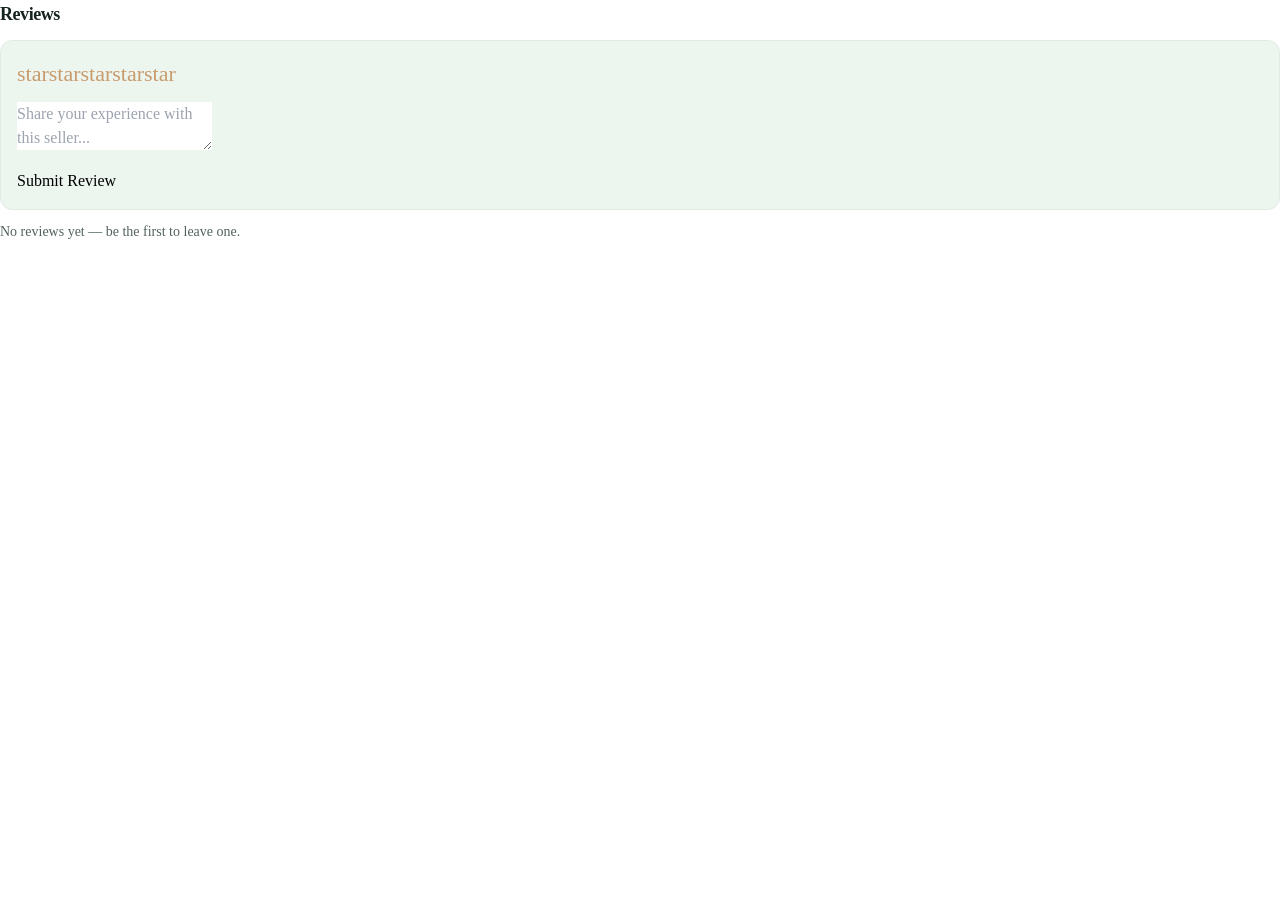
Test case: SellerReviews › shows the review composer inline (no button needed) even signed out, and prompts sign-in on submit
In the text box with placeholder "Share your experience with this seller...": (114, 126) [17,102,212,150], type "Great seller!"
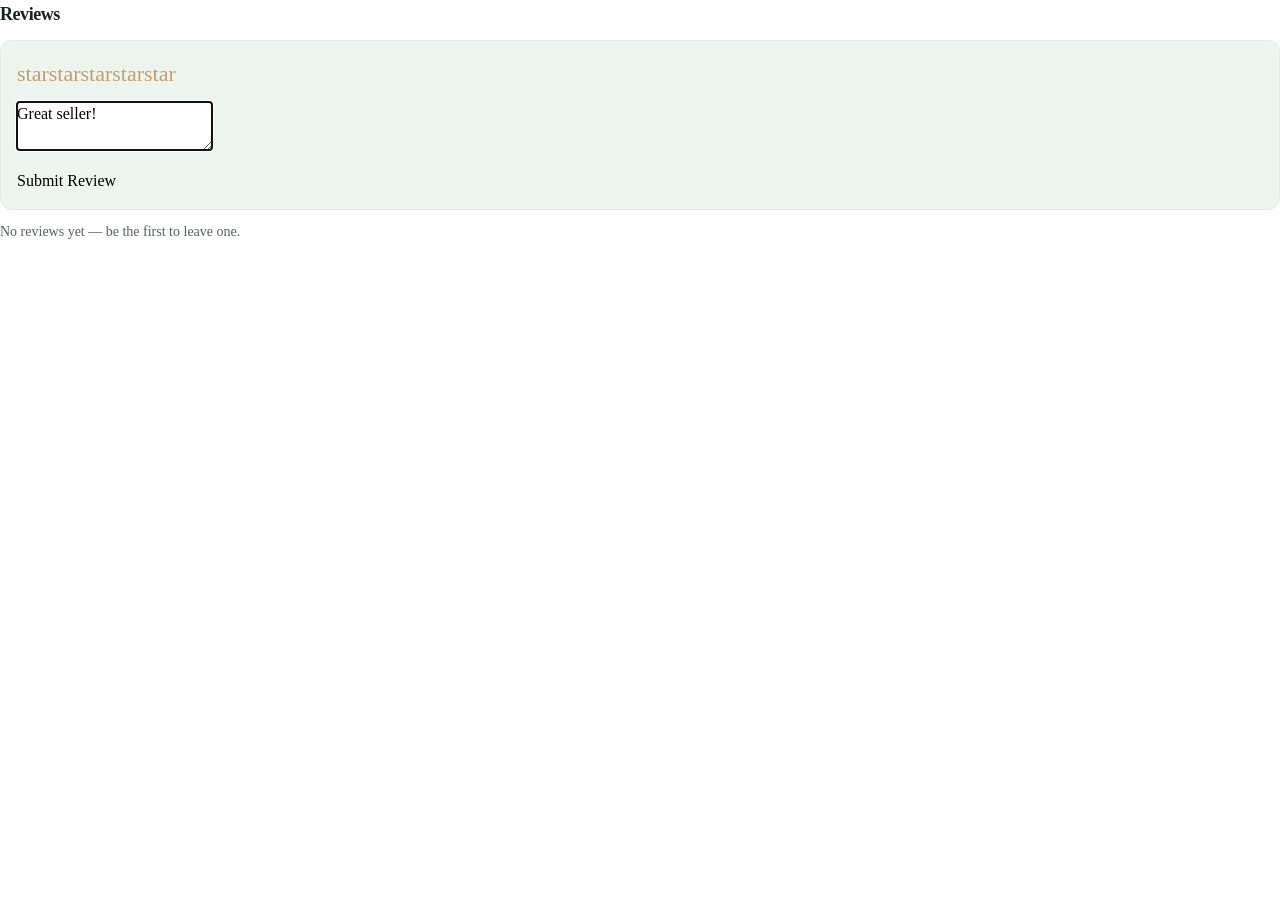
Click the button "Submit Review": click(67, 181) [17,169,116,193]
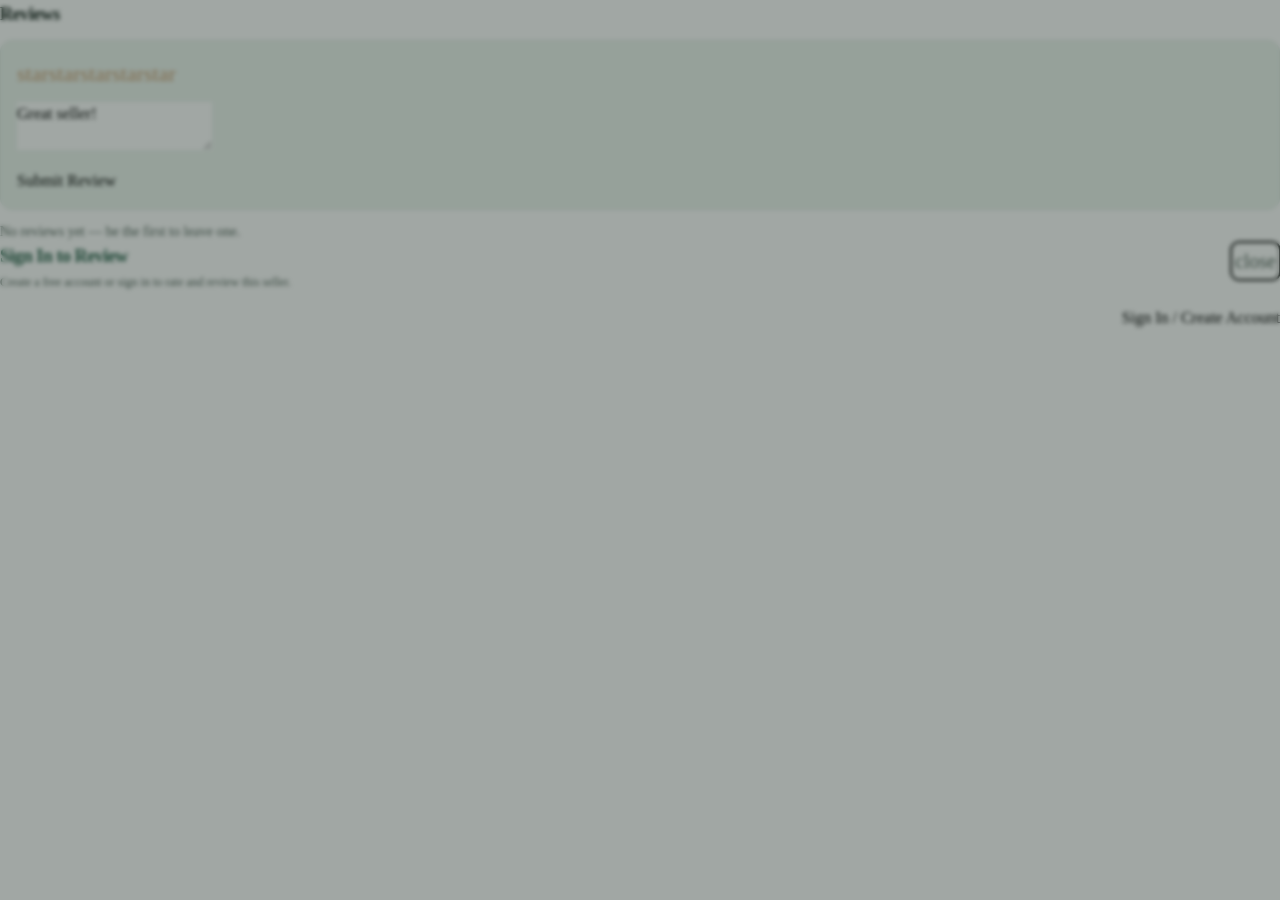
Now the heading "Sign In to Review" is shown, box [0,246,128,266]
